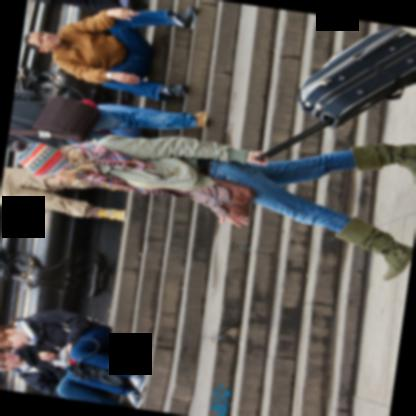backpack: (8, 96, 103, 143)
handbag: (8, 96, 98, 141), (68, 337, 127, 385), (192, 175, 255, 217)
suitcase: (298, 24, 416, 124)
